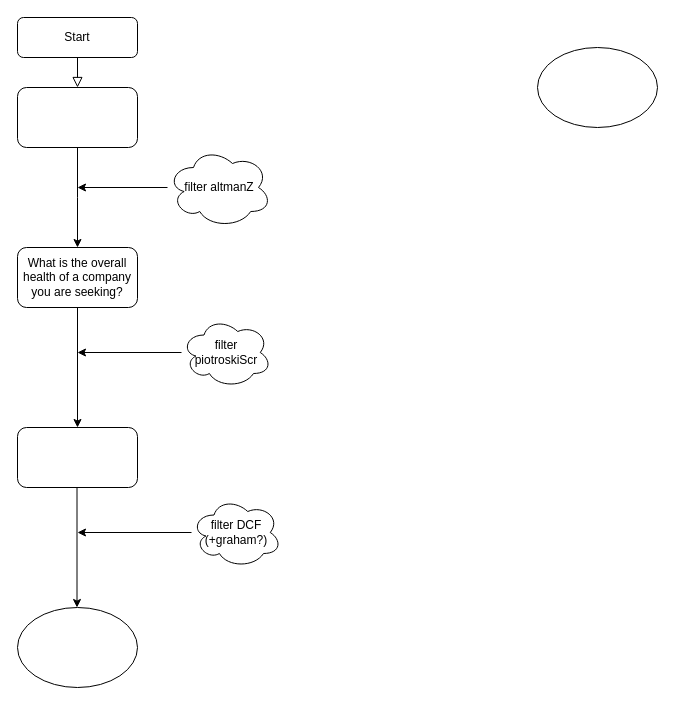
This 675x705 diagram has some shape labels left out. The centre of each missing label's shape, as x and y in pixels:
"What is the intrinsic value of a company you are seeking" goes at (77,457).
"What is the risk you are willing to assume" goes at (77,117).
